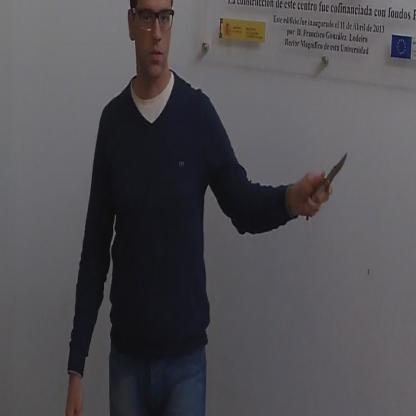knife: (302, 143, 351, 228)
